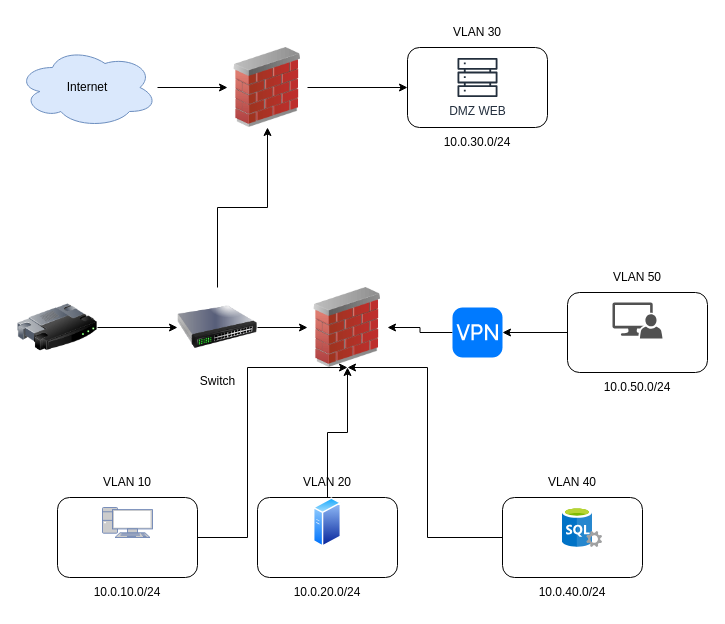
Image size: 725x624. Some labels were removed from this diagram. The shapes that lost their labels are listed below. From the top down, each one's box as (x1, y1, x2, y2) in pixels, then its label:
(227, 47, 307, 127): Firewall Perimetral
(17, 287, 97, 367): Router
(307, 287, 387, 367): Firewall Interno
(612, 302, 662, 338): Administración
(101, 506, 153, 538): Empleados
(313, 497, 341, 547): Servidores Internos
(562, 507, 602, 547): Bases de datos
